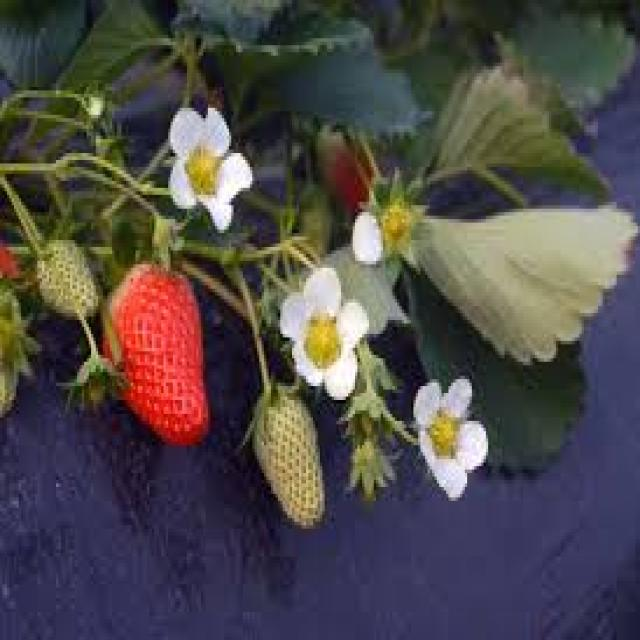immature: (252, 396, 326, 531), (37, 239, 99, 322)
mature: (108, 263, 208, 445)
